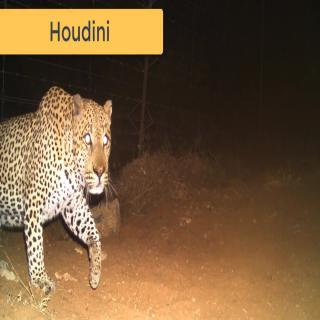Leopard: (1, 84, 113, 293)
